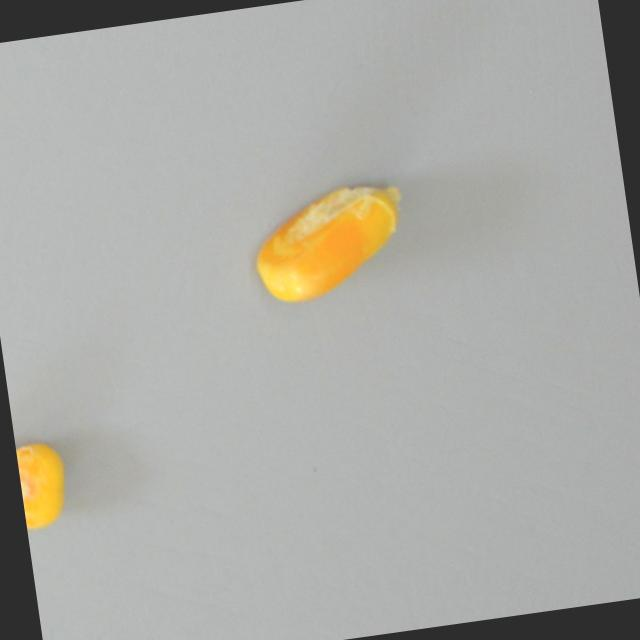dañado: (243, 170, 420, 311), (14, 432, 81, 540)
